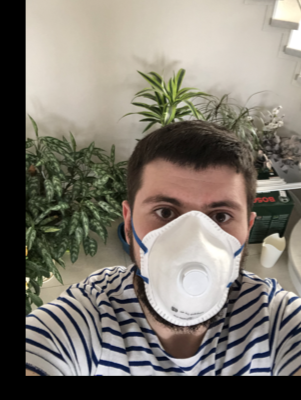with_mask: (136, 178, 246, 330)
